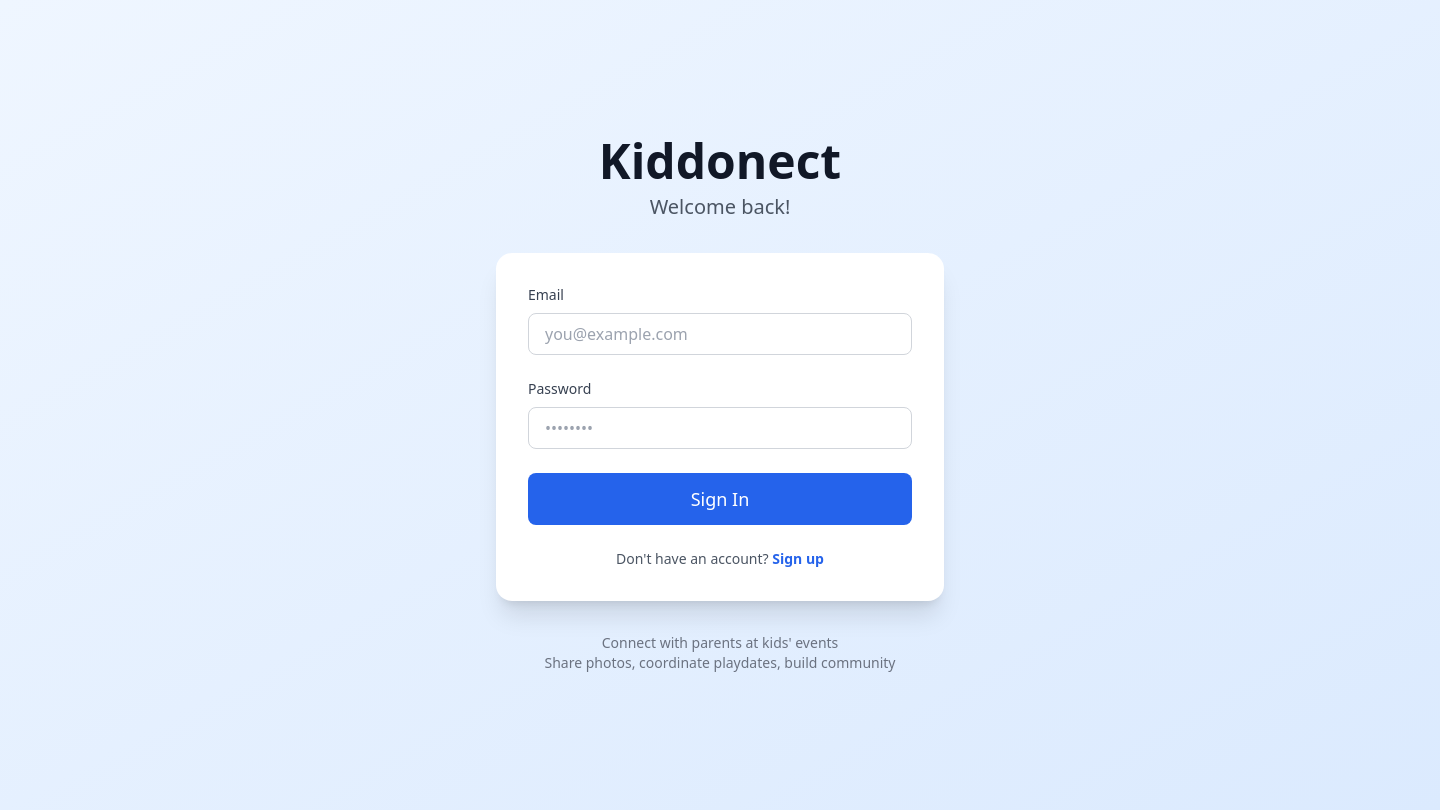
Test: Login Page › displays error message on failed login
Step 1. Type "wrong@example.com" into the field labelled "Email" → (720, 334), box x1=528 y1=313 x2=912 y2=355
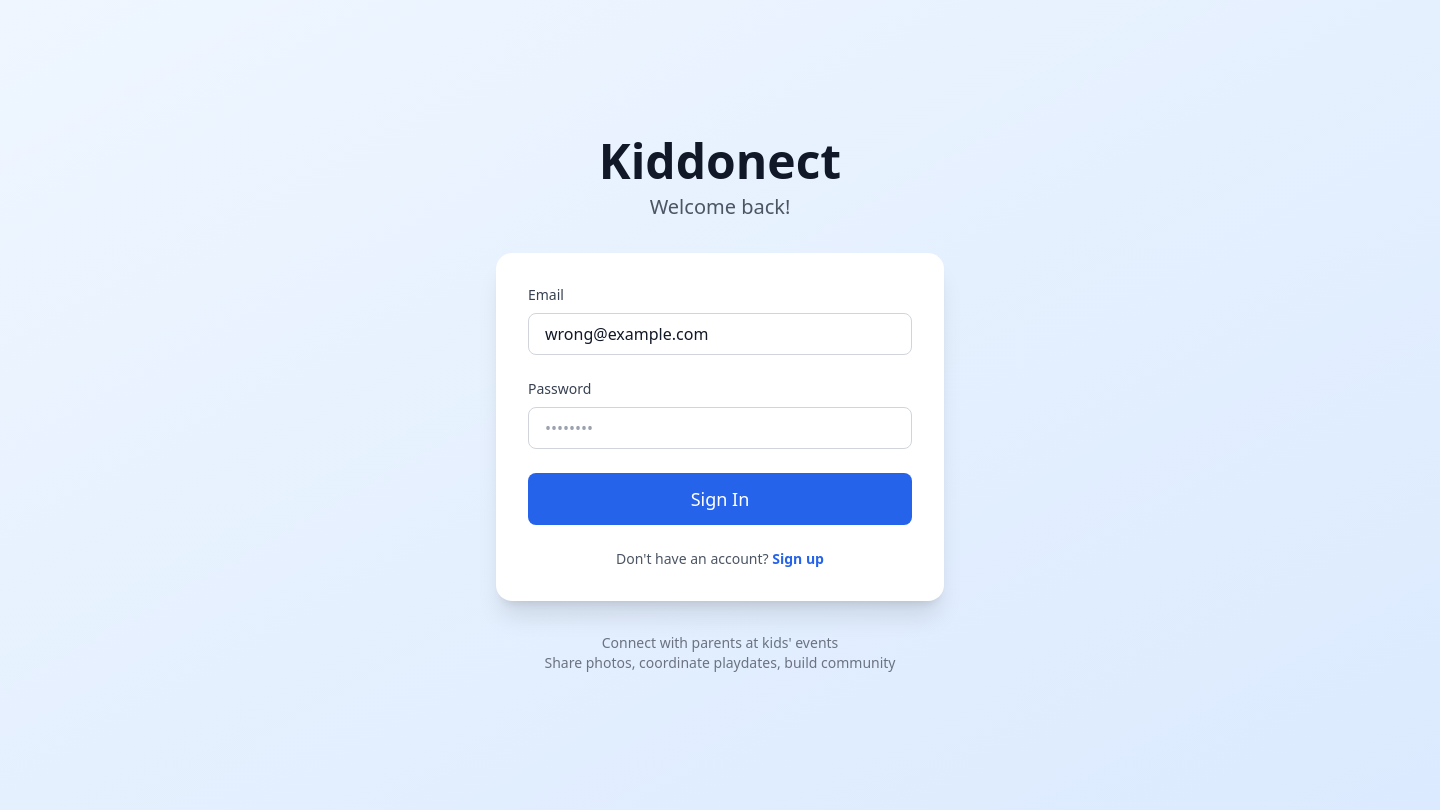
Step 2. Type "wrongpassword" into the password field labelled "Password" → (720, 428), box x1=528 y1=407 x2=912 y2=449
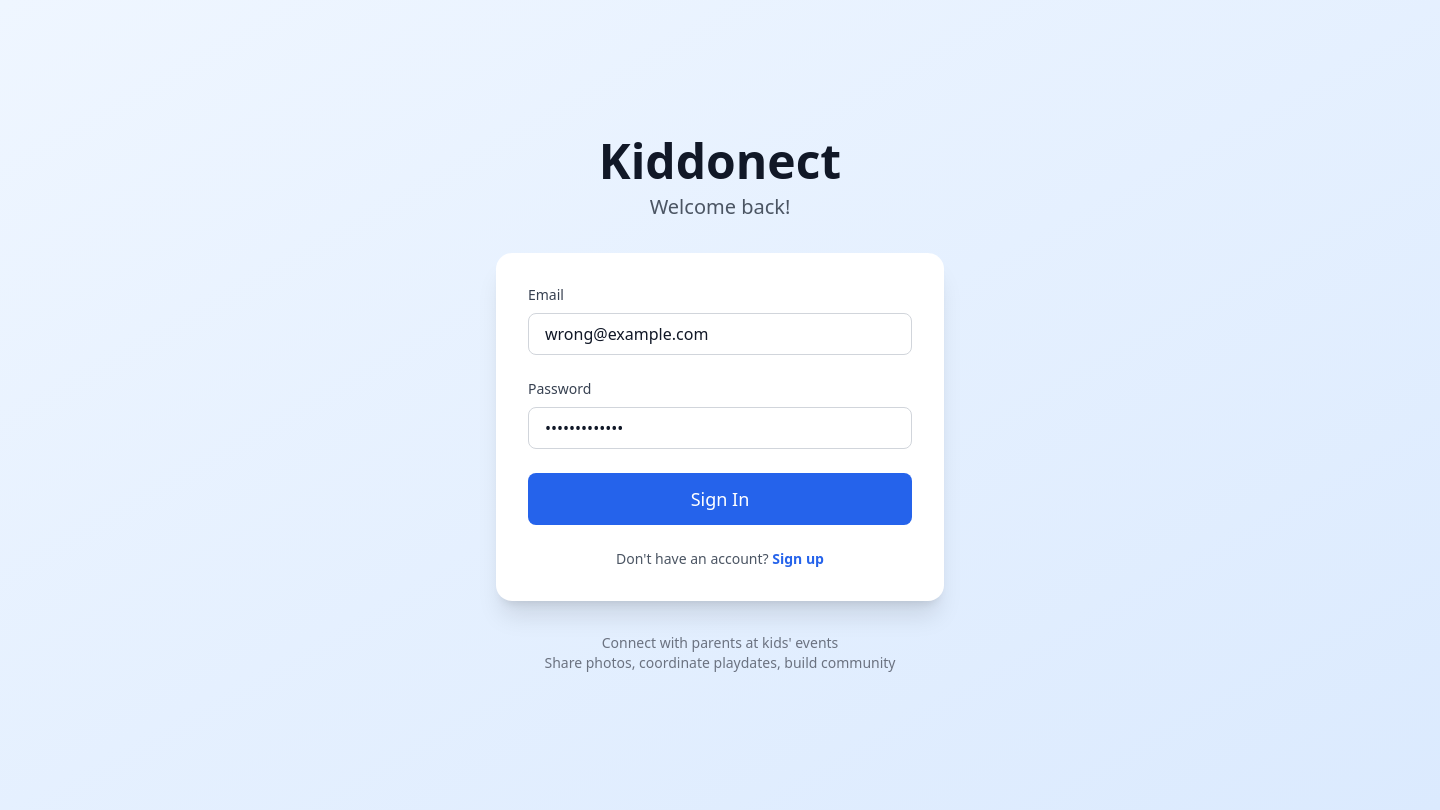
Step 3. Click the button "Sign In" → (720, 499), box x1=528 y1=473 x2=912 y2=525
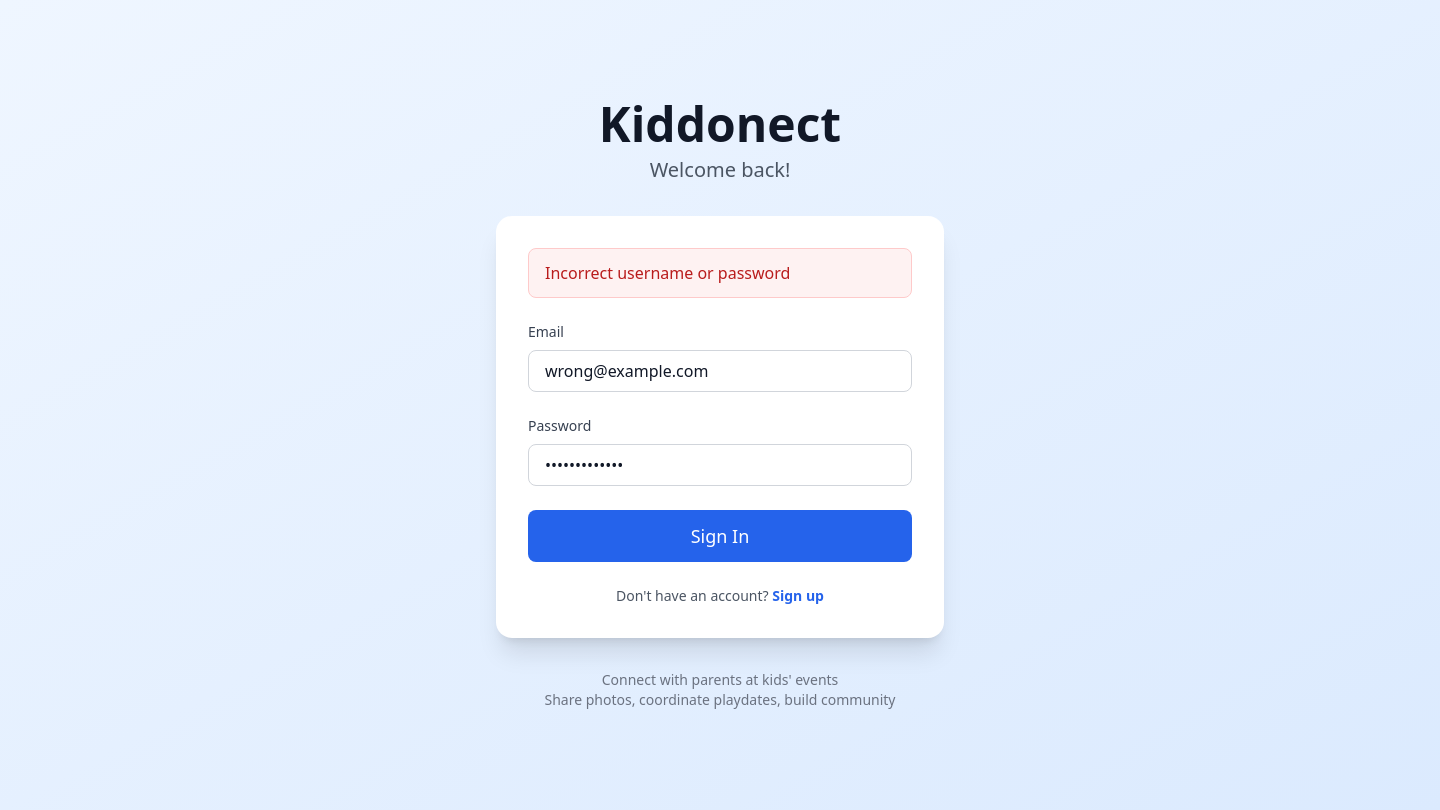
Check: the text "Incorrect username or password" is shown, box x1=528 y1=248 x2=912 y2=298
